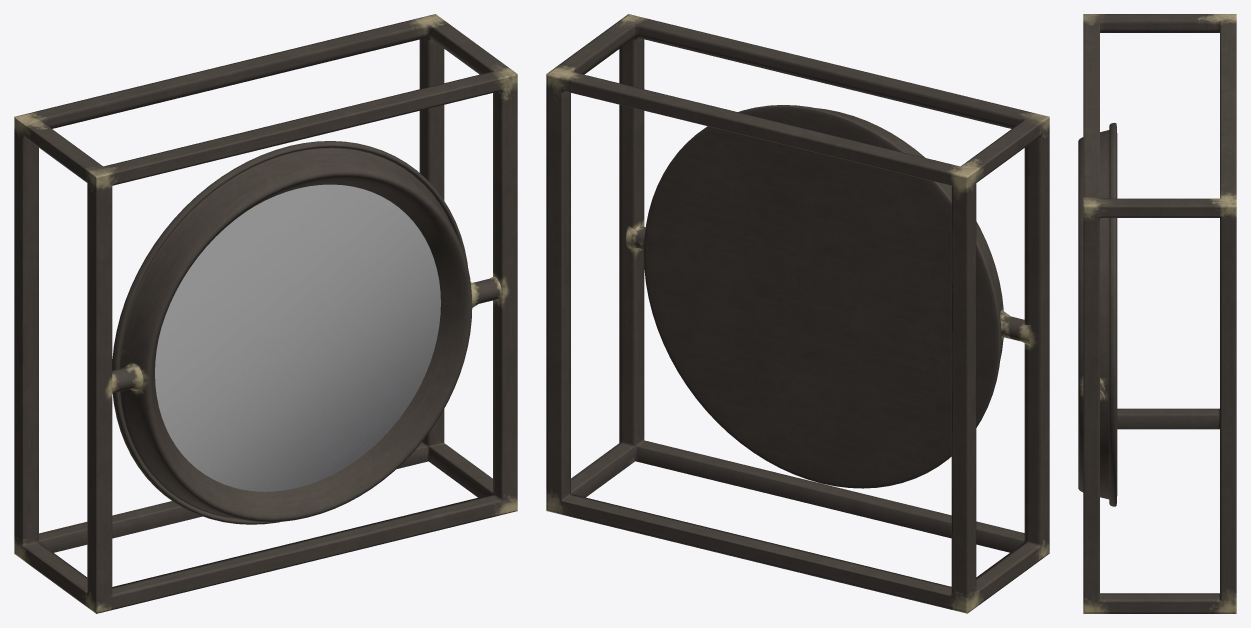
The model's file is mirror_B073WGSN2W.glb.
3 views of the same model, side by side, from view 1: azimuth 30°, elevation 25°; view 2: azimuth 150°, elevation 25°; view 3: azimuth 270°, elevation 25° (orthographic). The views are drawn at different scales.
Parts seen in each view (by area): view 1: RootNode; view 2: RootNode; view 3: RootNode.
Boxes of the visible parts, bbox=[...] form: RootNode: bbox=[14, 14, 517, 613]; RootNode: bbox=[546, 14, 1049, 613]; RootNode: bbox=[1078, 14, 1236, 613].
Bounding box in the file's own units: 0.3056 × 0.3031 × 0.1065.
1 material, 1 textured.
